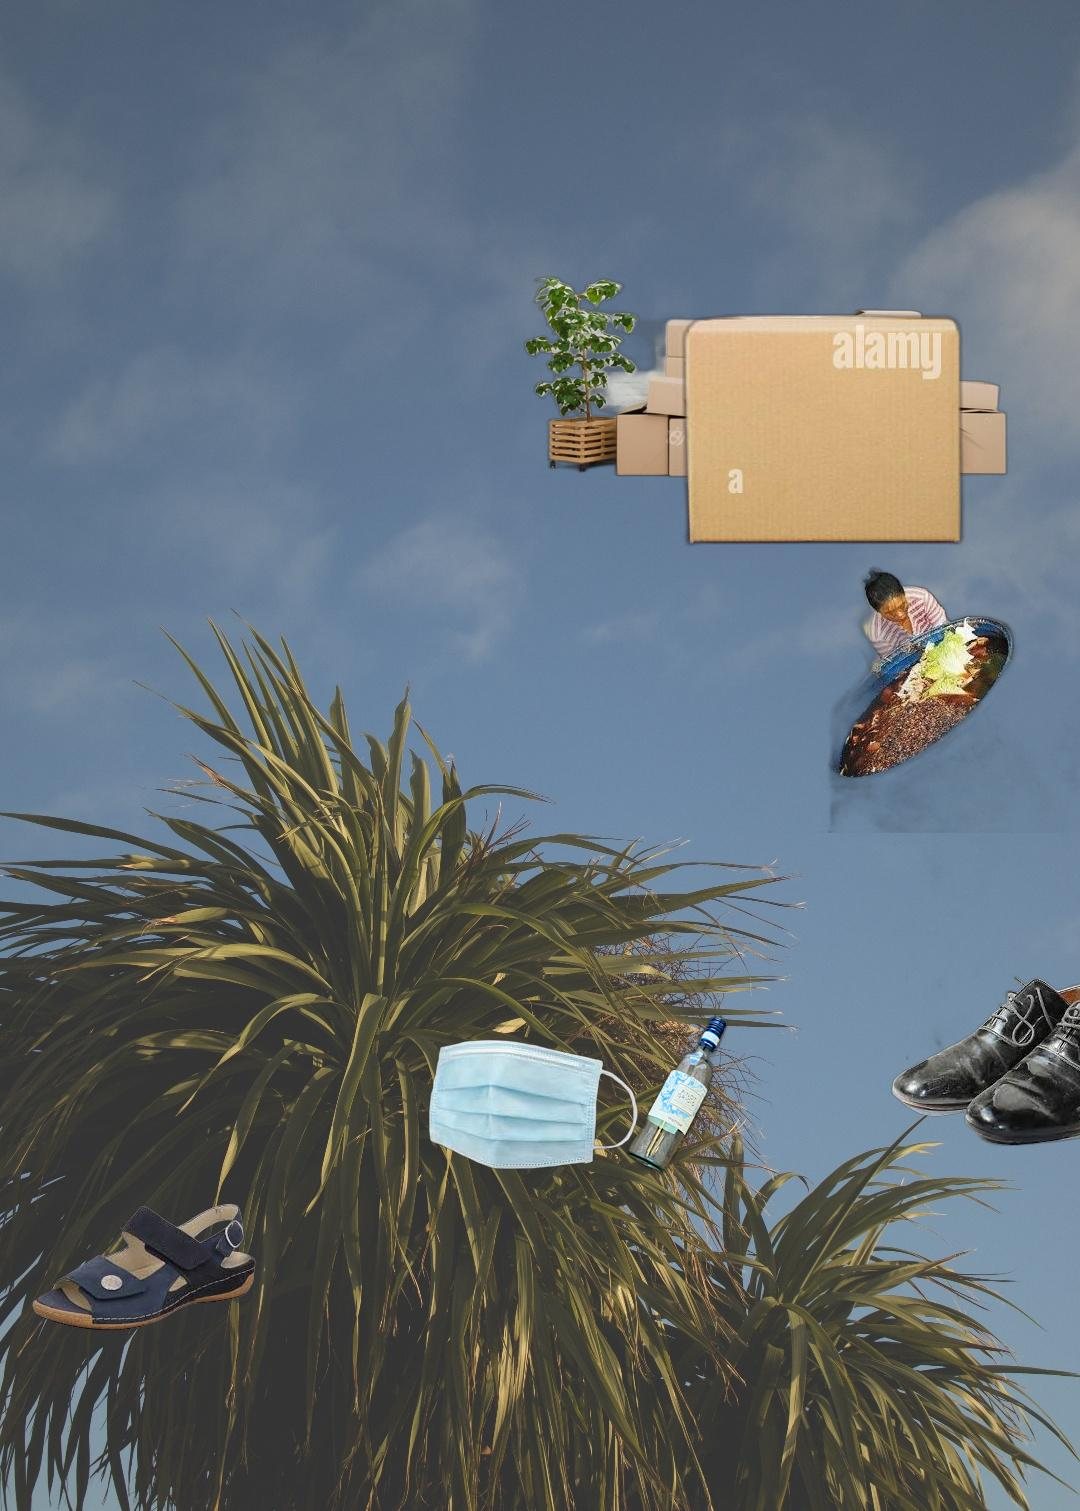biological: (906, 165, 1080, 1060), (821, 535, 1080, 833)
glass: (622, 1011, 732, 1180)
shoes: (889, 972, 1080, 1148), (32, 1201, 256, 1333)
trash: (413, 1037, 638, 1172)
trashbox-cardboard: (519, 275, 1012, 488), (672, 307, 972, 552)
